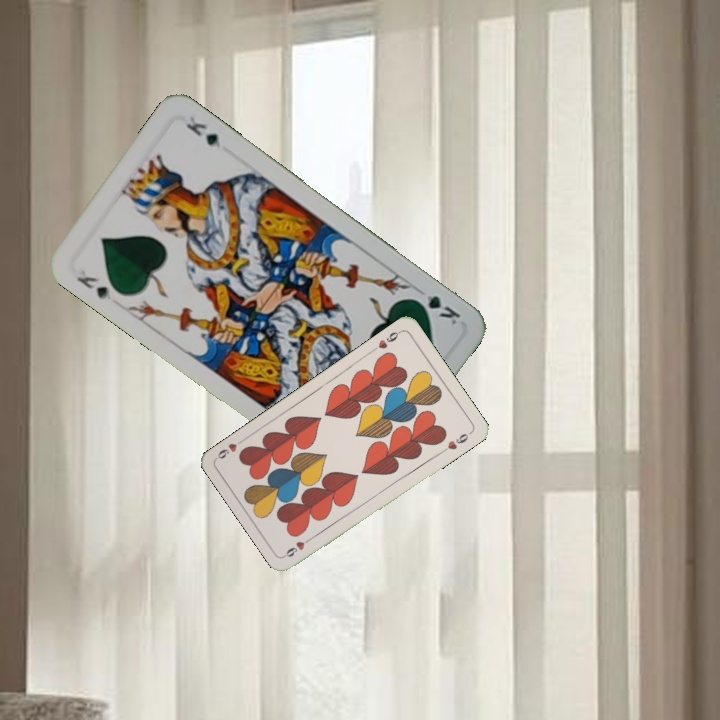GK: (408, 284, 464, 329), (72, 265, 114, 303)
H9: (281, 532, 317, 560), (368, 327, 404, 354)
